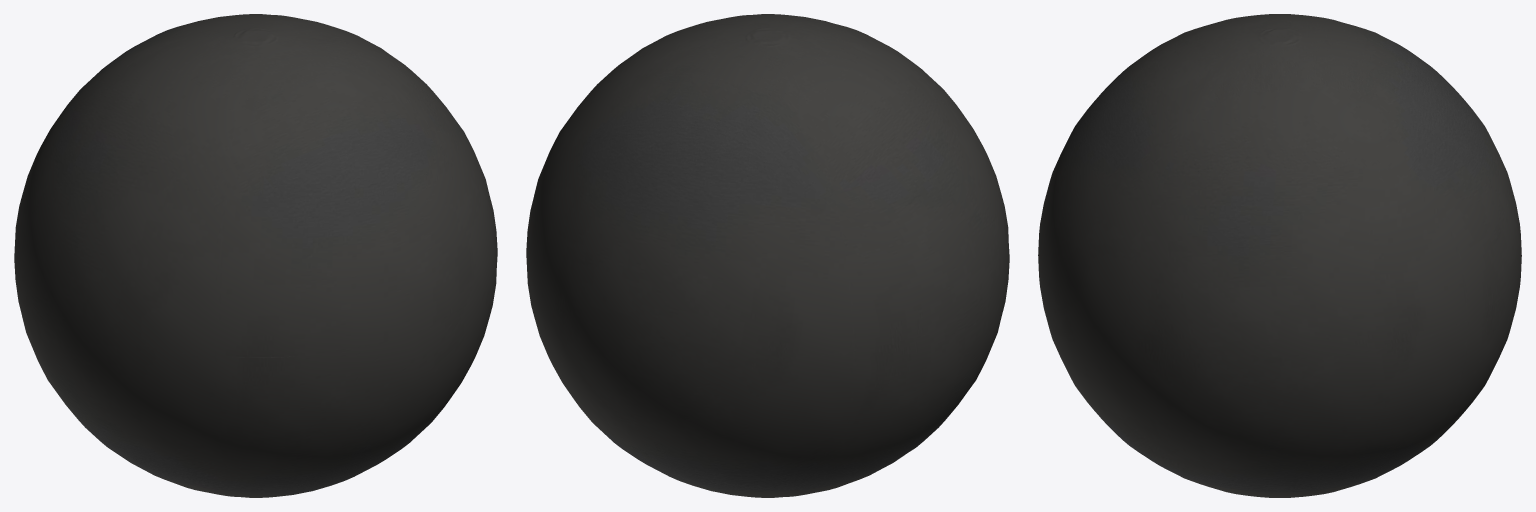
Rendered from mercury.glb.
3 renders of one model, left to right at view 1: azimuth 30°, elevation 25°; view 2: azimuth 150°, elevation 25°; view 3: azimuth 270°, elevation 25°, orthographic.
Visible parts, largest first — view 1: Realistic Mercury; view 2: Realistic Mercury; view 3: Realistic Mercury.
Boxes of the visible parts, x1,y1,x2,y2 form: Realistic Mercury: (14, 14, 497, 497); Realistic Mercury: (526, 14, 1009, 497); Realistic Mercury: (1038, 14, 1521, 497).
Size of the model in its own units: 0.9941 by 0.998 by 0.9941.
1 material, 1 textured.
